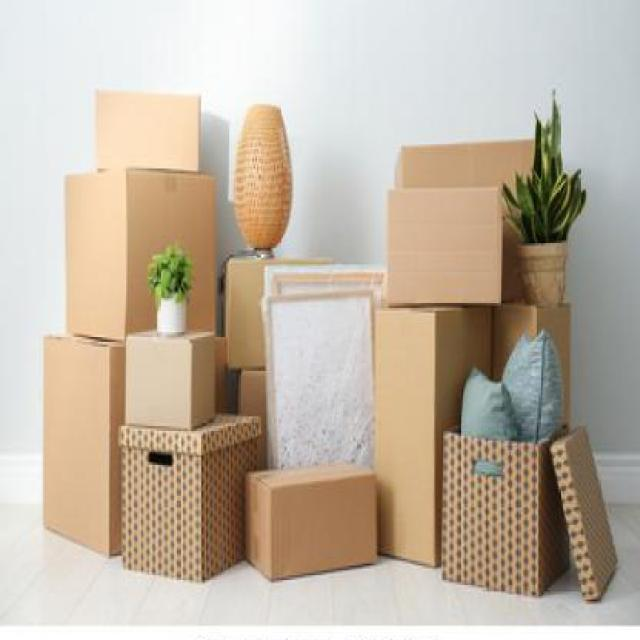box: (442, 417, 626, 630), (373, 307, 496, 586), (58, 160, 222, 349), (112, 404, 260, 582), (40, 325, 126, 556), (242, 465, 388, 585), (384, 187, 502, 307), (89, 81, 202, 183), (496, 304, 576, 446), (120, 319, 215, 438), (386, 132, 549, 200), (224, 250, 278, 374)
